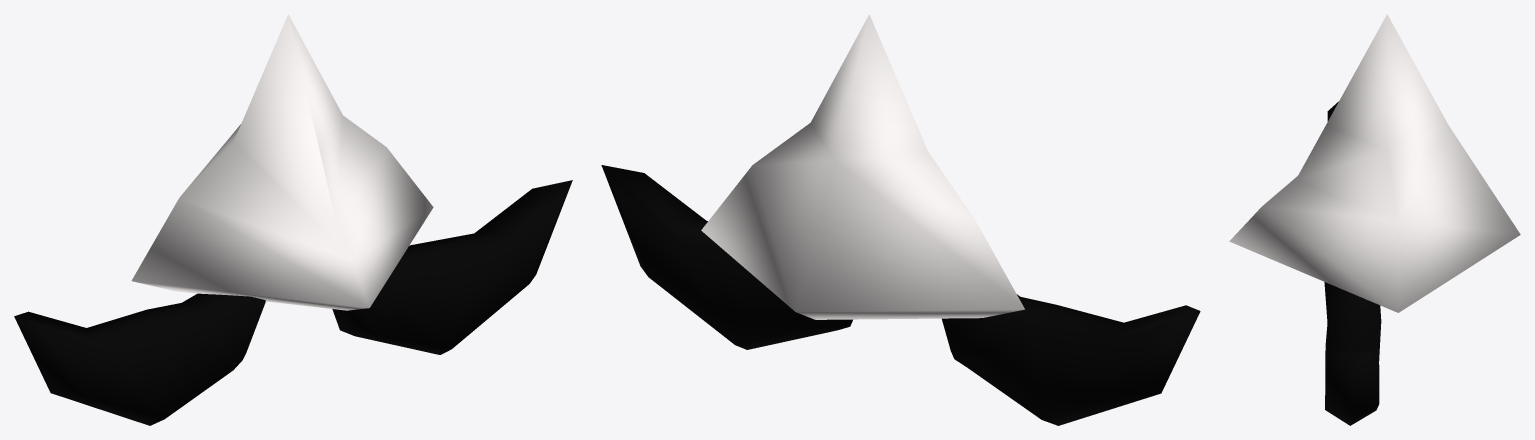
File: nose_02.fbx
3 views of the same model, side by side, from view 1: azimuth 30°, elevation 25°; view 2: azimuth 150°, elevation 25°; view 3: azimuth 270°, elevation 25° (orthographic). The views are drawn at different scales.
Parts seen in each view (by area): view 1: Nose_02; view 2: Nose_02; view 3: Nose_02.
Boxes of the visible parts, bbox=[...] form: Nose_02: bbox=[14, 14, 572, 425]; Nose_02: bbox=[601, 14, 1200, 425]; Nose_02: bbox=[1229, 14, 1520, 425].
Bounding box in the file's own units: 66.05 × 40.62 × 30.77.
